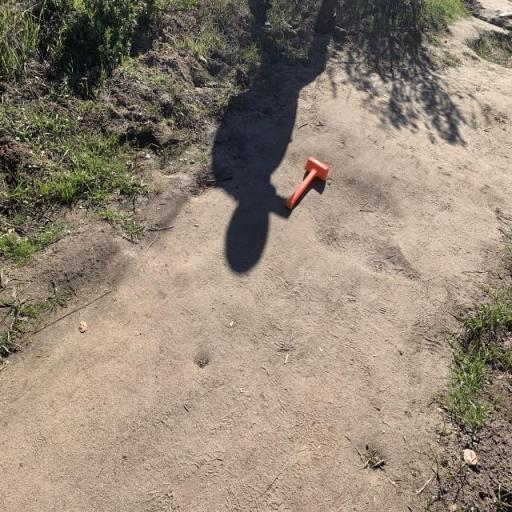mallet: (284, 156, 330, 210)
